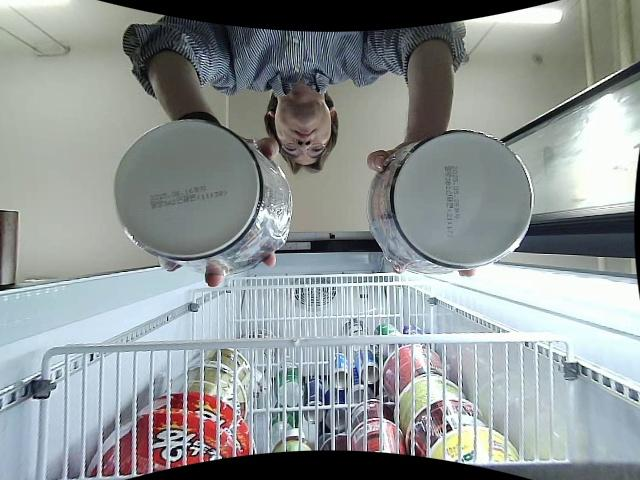00_hand: (159, 138, 287, 289), (365, 141, 479, 279)
07_buldak_L: (113, 118, 292, 271), (369, 127, 535, 274)
